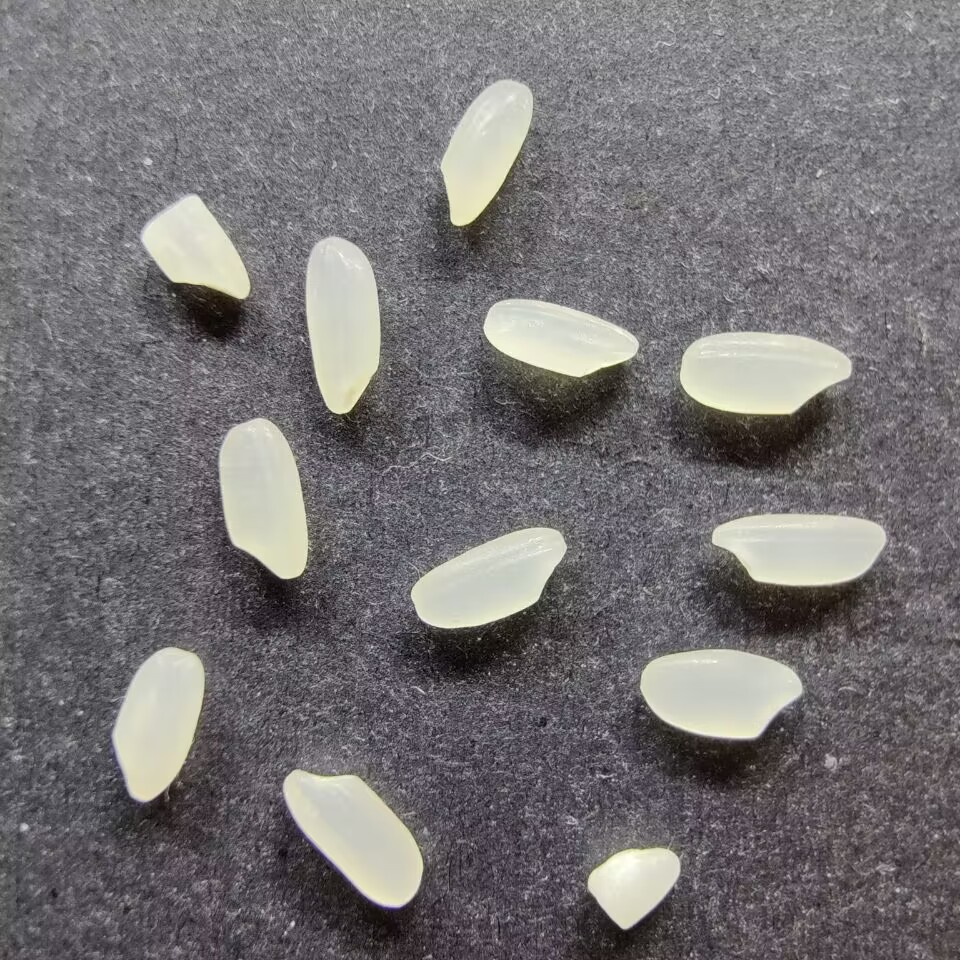broken: (137, 193, 253, 302), (584, 843, 682, 931)
rice: (280, 766, 423, 909), (408, 525, 567, 630), (215, 417, 312, 580), (638, 647, 803, 742), (677, 329, 852, 417), (110, 645, 205, 803), (302, 235, 383, 416), (437, 78, 534, 227), (709, 511, 887, 588), (481, 297, 639, 379)
